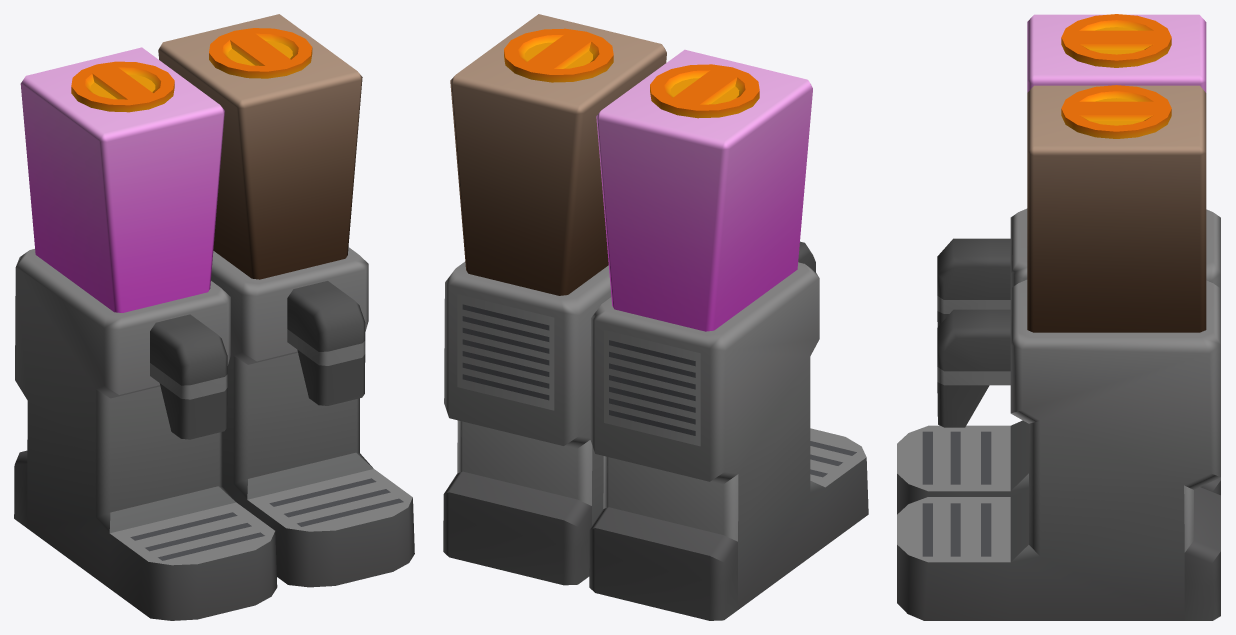
Rendered from Station Milkshake.fbx.
The picture shows the model from 3 angles, left to right: view 1: azimuth 30°, elevation 25°; view 2: azimuth 150°, elevation 25°; view 3: azimuth 270°, elevation 25°; orthographic projection. The views are drawn at different scales.
Visible parts, largest first — view 1: Station_Milkshake_Machine; view 2: Station_Milkshake_Machine; view 3: Station_Milkshake_Machine.
Boxes of the visible parts, bbox=[...] form: Station_Milkshake_Machine: bbox=[14, 14, 414, 620]; Station_Milkshake_Machine: bbox=[443, 14, 868, 620]; Station_Milkshake_Machine: bbox=[897, 14, 1220, 620].
Bounding box in the file's own units: 162 × 266 × 163.
